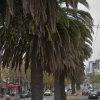Palm tree: (11, 2, 94, 91)
